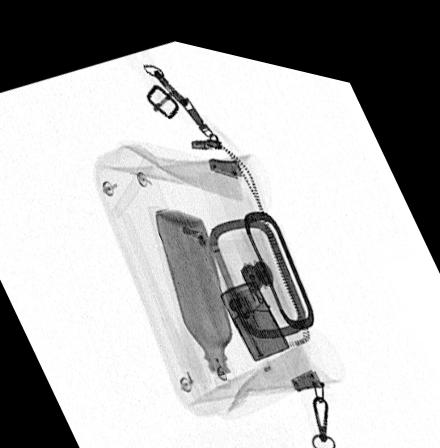Lighter: (218, 269, 289, 348)
